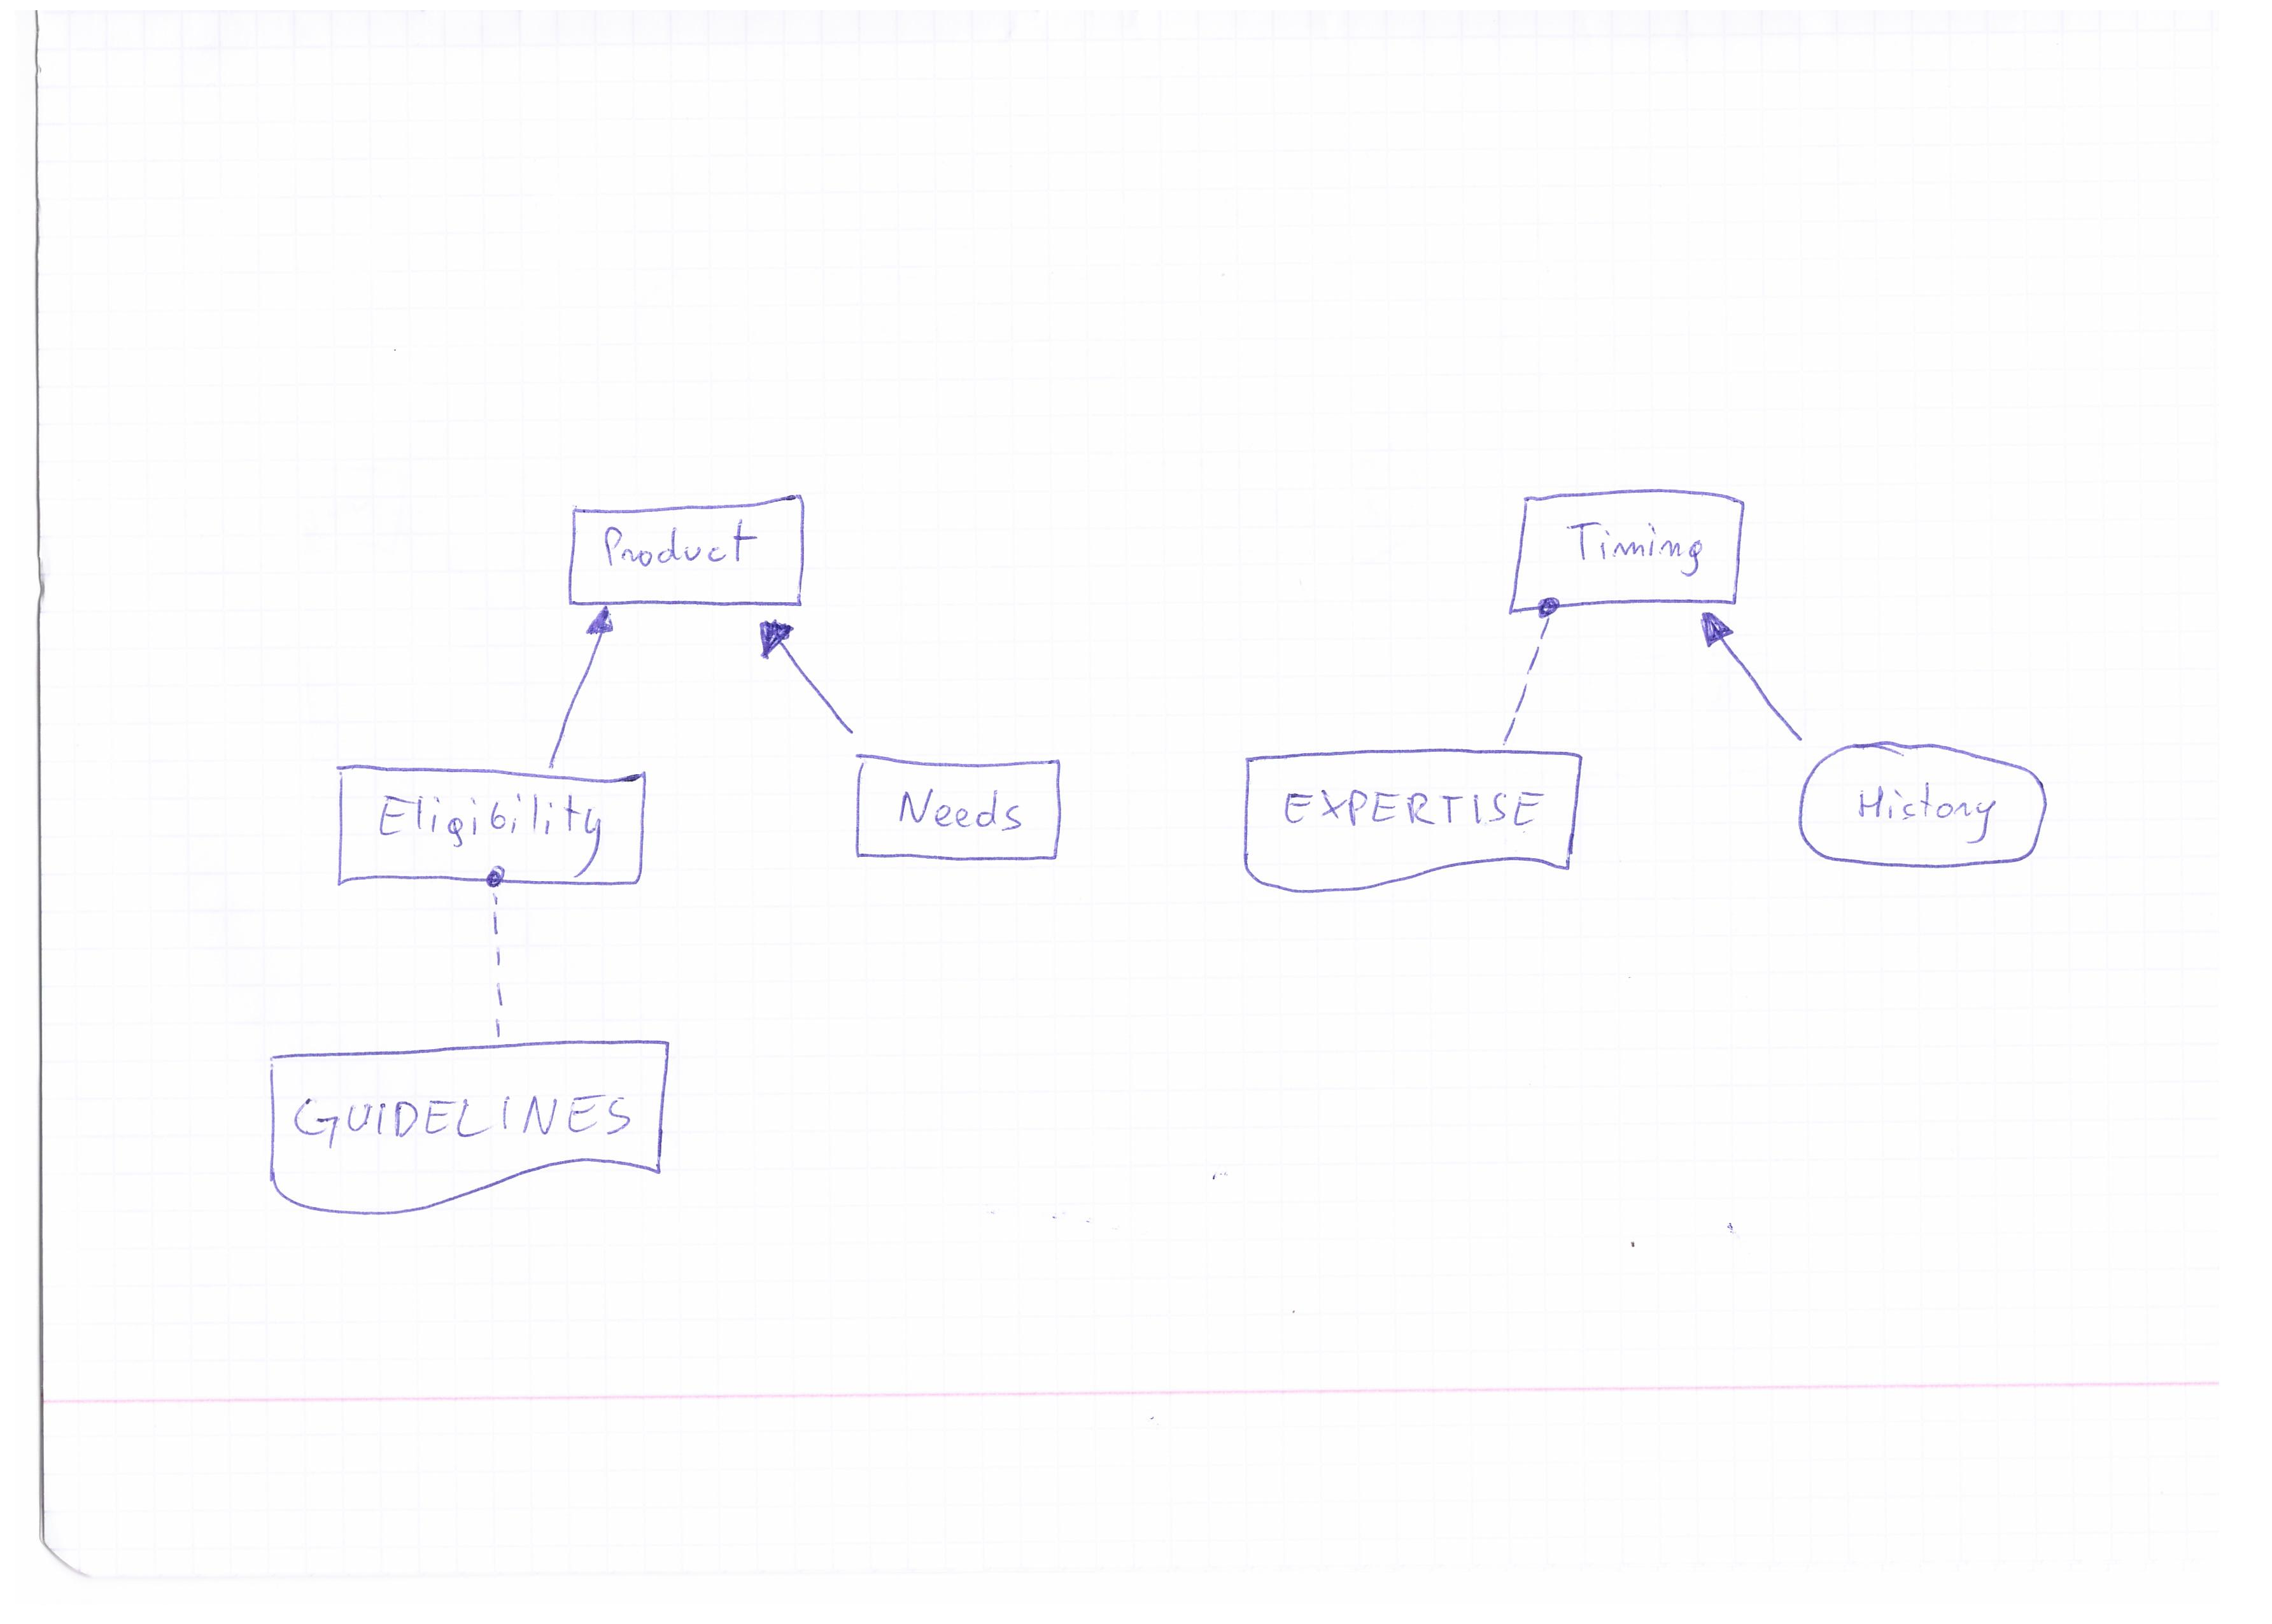arrow_authority_requirement: (1480, 591, 1574, 749), (469, 859, 527, 1042)
arrow_information_requirement: (1687, 606, 1822, 754), (522, 592, 626, 775), (742, 613, 868, 742)
node_decision: (325, 758, 654, 896), (822, 742, 1093, 882), (1501, 483, 1762, 615), (555, 494, 814, 610)
node_input_data: (1775, 735, 2079, 884)
node_knowledge_source: (250, 1044, 692, 1220), (1230, 742, 1601, 895)
text: (286, 1081, 647, 1158), (365, 779, 611, 875), (1272, 779, 1560, 849), (1548, 511, 1724, 587), (1840, 775, 2003, 852), (886, 772, 1037, 844), (597, 518, 777, 576)
